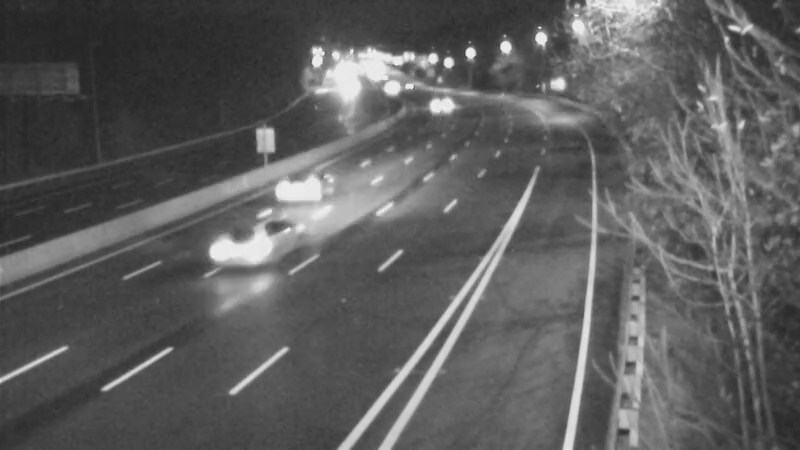vehicle: (270, 137, 350, 217), (202, 212, 282, 292), (367, 65, 417, 115), (421, 80, 471, 130)
